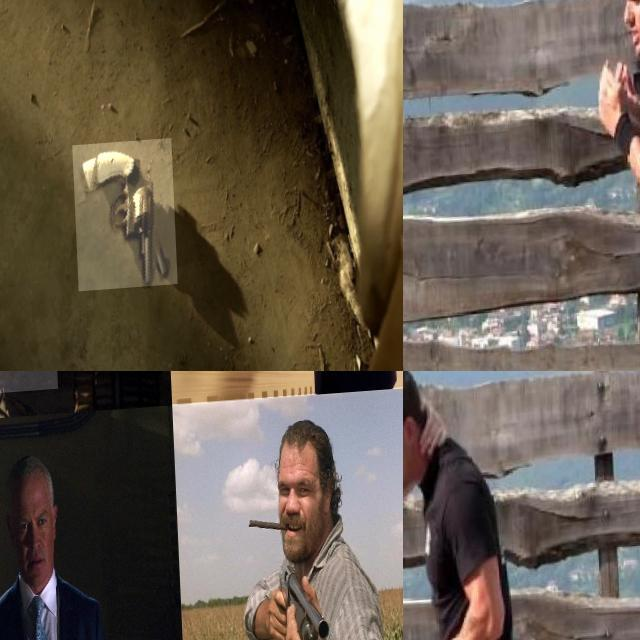-: (403, 332, 451, 371)
gun-knife-thesis - v11 Yolov5 augmented: (69, 142, 173, 294), (265, 562, 324, 640), (0, 371, 55, 445), (0, 534, 20, 640), (267, 371, 303, 415)
